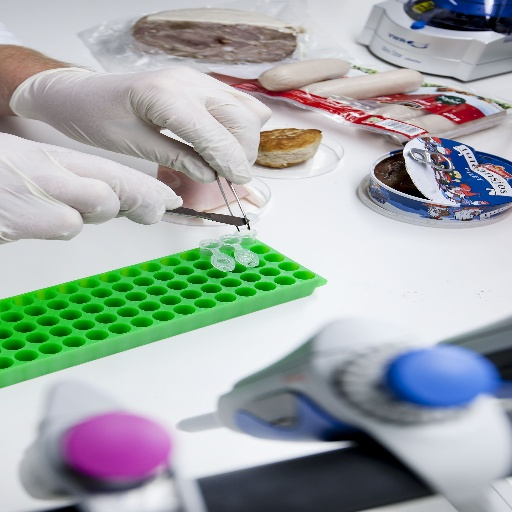hand: (23, 56, 270, 207), (0, 128, 184, 245)
